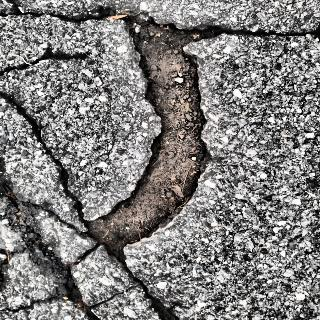crack: (4, 190, 106, 320), (0, 83, 89, 219), (114, 258, 182, 320), (0, 52, 80, 82), (4, 9, 116, 26), (232, 25, 320, 42)
pothole: (72, 14, 229, 259)
